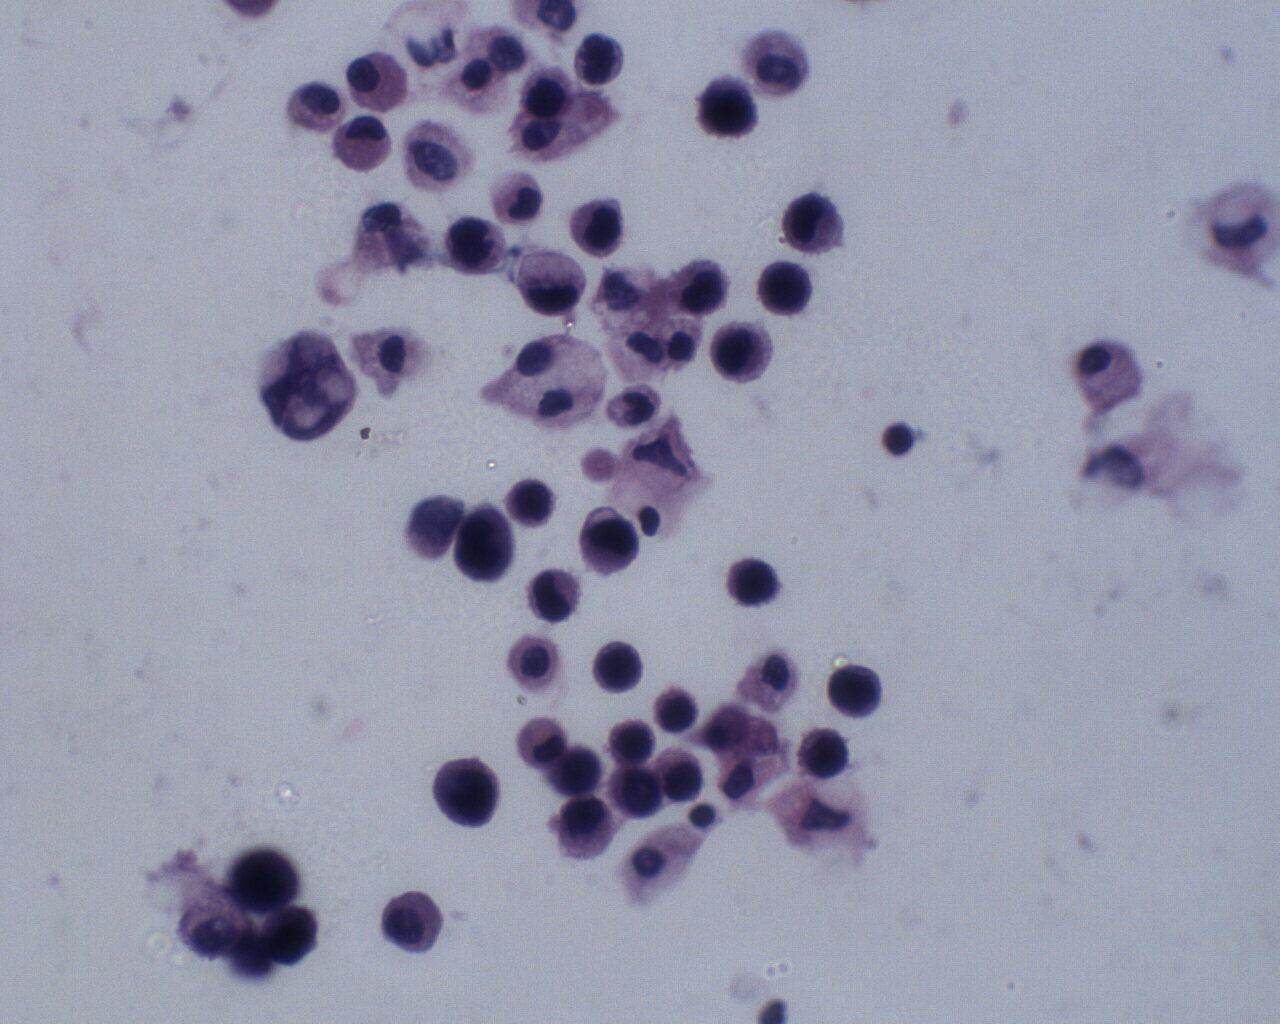ab: (450, 497, 516, 583), (429, 754, 502, 829), (579, 504, 643, 580), (708, 318, 778, 387), (542, 796, 618, 860), (695, 73, 764, 142), (438, 212, 509, 273), (606, 762, 671, 822), (568, 196, 628, 260), (672, 255, 731, 319), (571, 29, 631, 91), (726, 552, 787, 612), (523, 566, 584, 626), (828, 661, 887, 721), (588, 636, 645, 697), (758, 259, 815, 317), (793, 725, 850, 783), (504, 474, 563, 529), (654, 744, 704, 806), (603, 717, 660, 768)
histo: (1073, 331, 1148, 415), (332, 114, 394, 177)
lymph: (879, 416, 920, 461)
meso: (341, 46, 415, 114), (378, 885, 446, 957), (506, 633, 568, 688), (514, 714, 567, 772)
